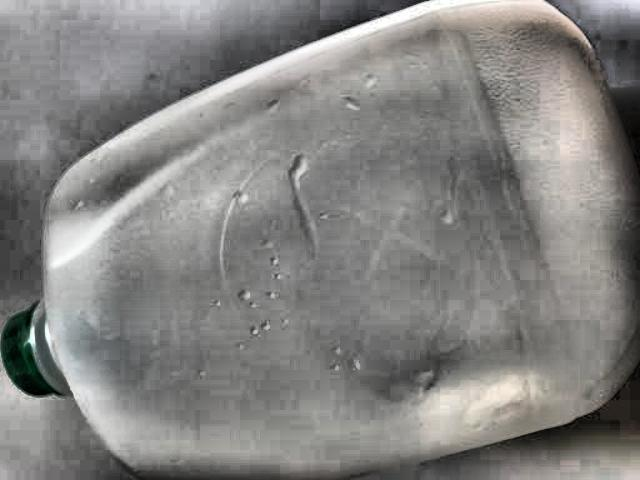Plastic: (0, 0, 632, 480)
